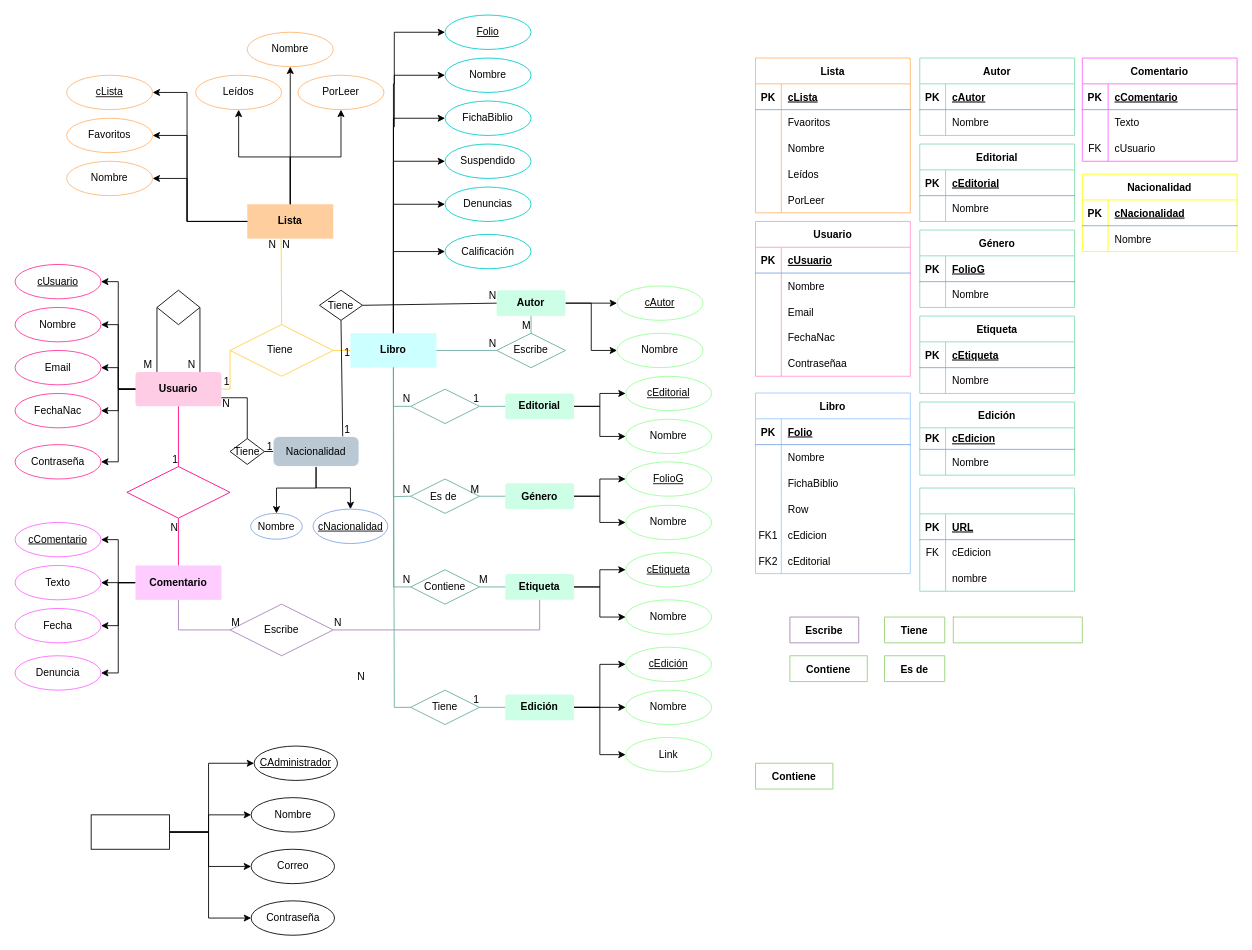
Image size: 1252x950. Some labels were removed from this diagram. Each missing label, with the box of its shape:
Administrador: (90, 814, 169, 849)
AutorEscribeLibro: (952, 616, 1082, 643)
es amigo: (156, 289, 200, 325)
Pagina: (919, 487, 1075, 591)
Pertenece: (410, 388, 479, 424)
Realiza: (126, 466, 230, 518)
